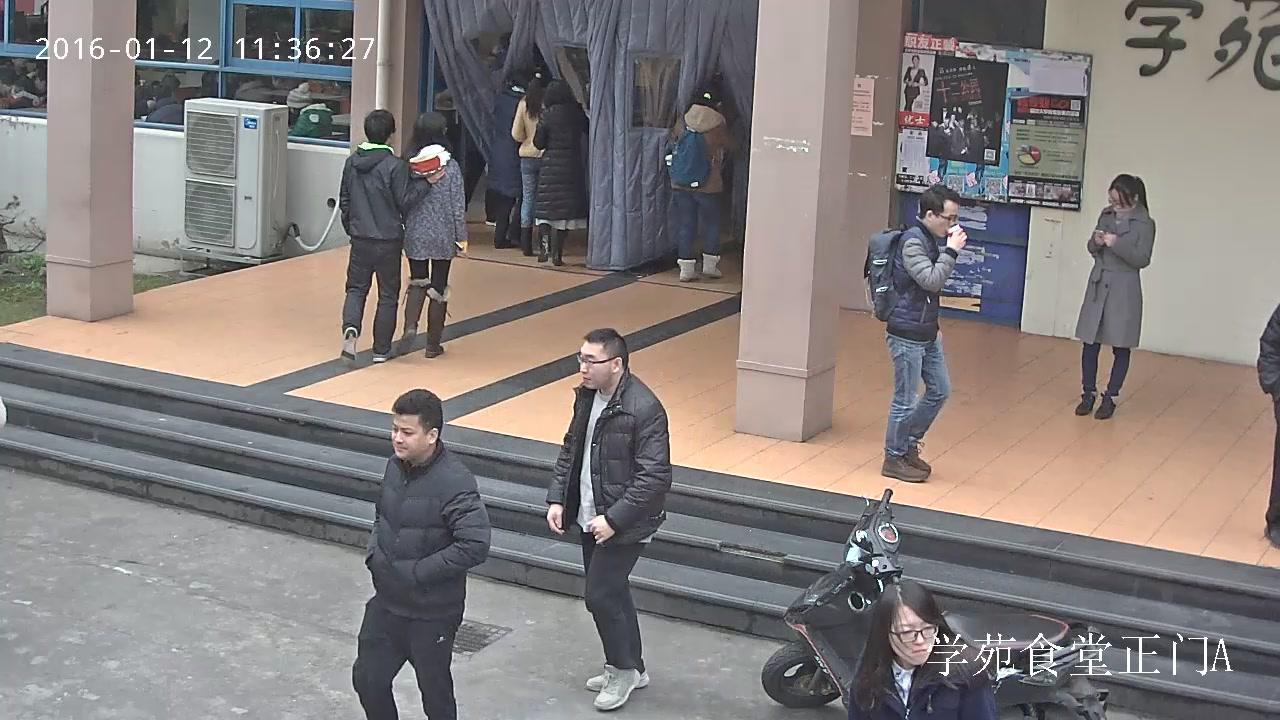person: (545, 328, 672, 711), (352, 388, 489, 720), (864, 185, 967, 483), (338, 109, 444, 361), (847, 580, 999, 720), (1074, 173, 1154, 419), (399, 112, 468, 358), (663, 81, 729, 281), (532, 79, 587, 267), (511, 68, 551, 257), (484, 84, 514, 248), (289, 82, 332, 138), (144, 82, 184, 125), (902, 55, 927, 112)
